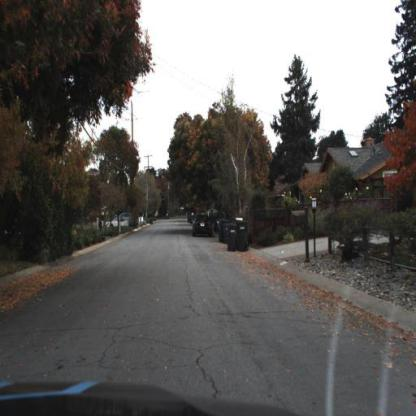car: (190, 211, 214, 242), (193, 214, 210, 237)
pedestrian: (210, 210, 218, 236)
